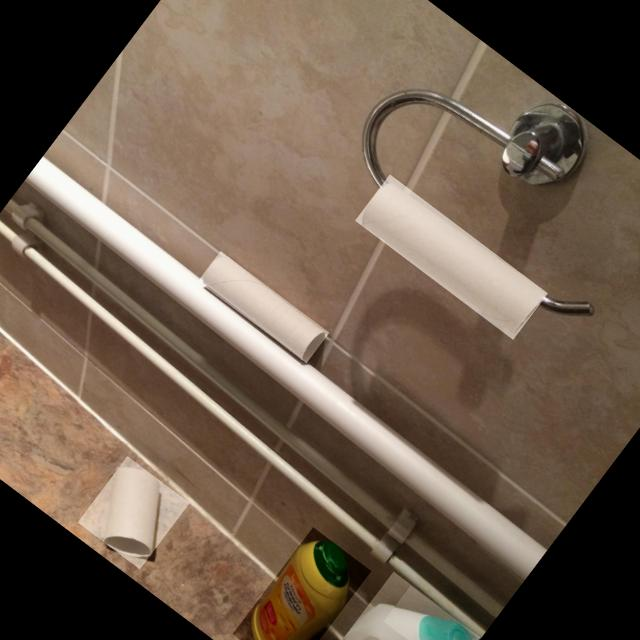Bottle cap: (405, 593, 472, 640)
Other Carton: (362, 184, 548, 334), (202, 257, 324, 361), (103, 468, 160, 558)
Other plastic wrapper: (251, 541, 349, 640), (343, 605, 472, 640)
